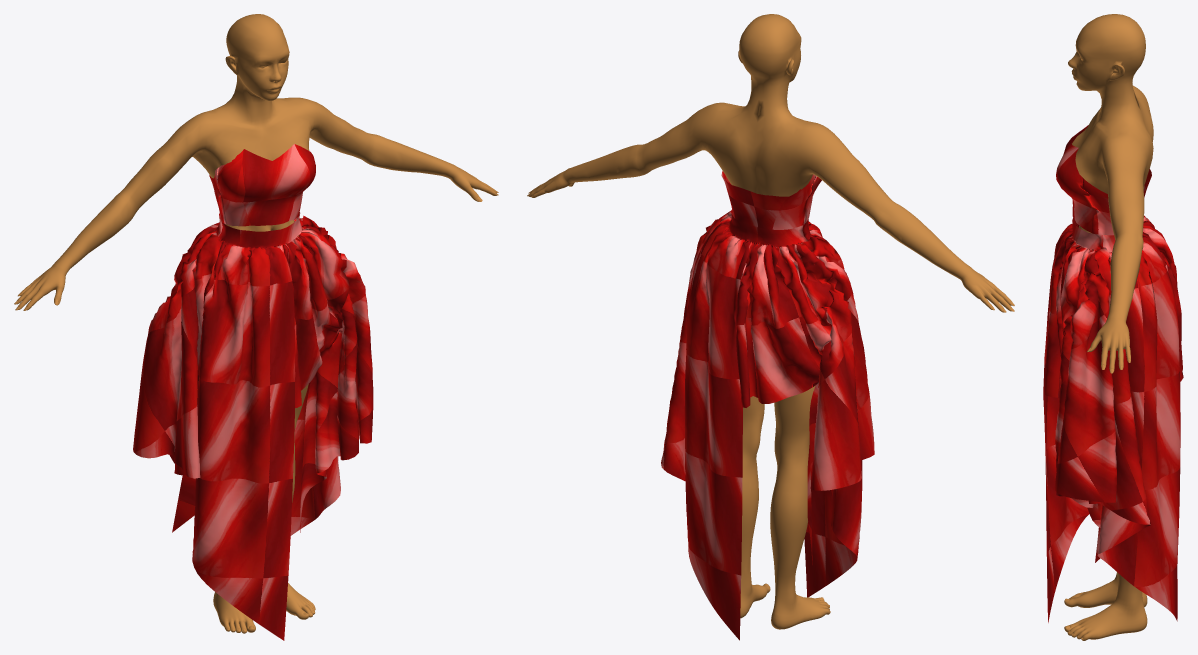
File: dress2.glb
The picture shows the model from 3 angles, left to right: view 1: azimuth 30°, elevation 25°; view 2: azimuth 150°, elevation 25°; view 3: azimuth 270°, elevation 25°; orthographic projection.
Parts seen in each view (by area): view 1: Project 1, Body; view 2: Project 1, Body; view 3: Project 1, Body.
Boxes of the visible parts, box(x1,y1,x2,y2) form: Project 1: box(133, 144, 373, 640); Body: box(16, 14, 498, 633); Project 1: box(661, 171, 874, 640); Body: box(528, 14, 1011, 629); Project 1: box(1043, 125, 1183, 622); Body: box(1064, 14, 1153, 640).
Bounding box in the file's own units: 1.58 × 1.87 × 0.3896.
Materials: 2 (1 with a texture image).
